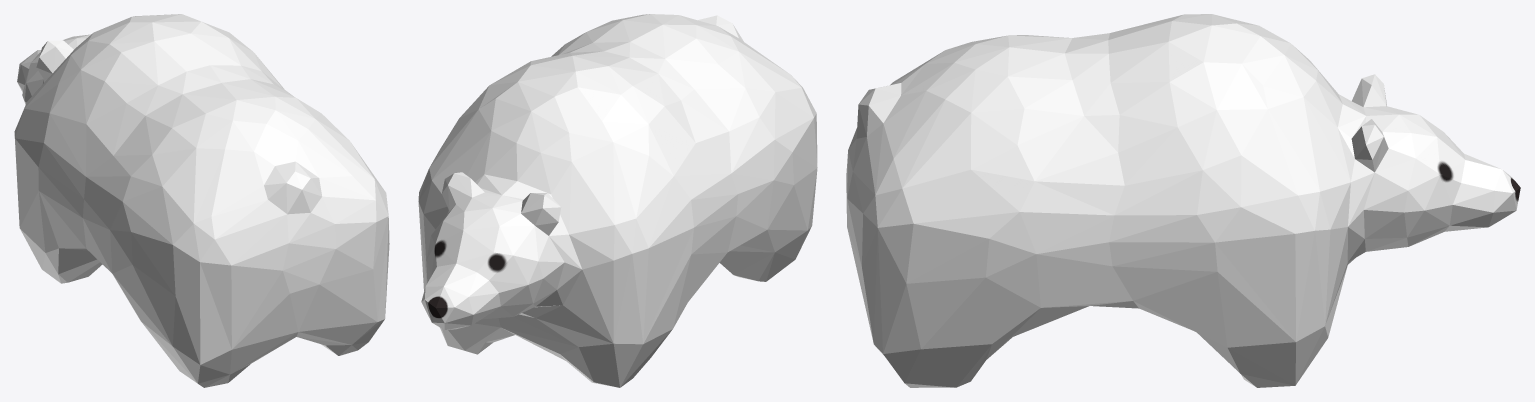
Rendered from animal_bear_blob.obj.
The picture shows the model from 3 angles, left to right: view 1: azimuth 30°, elevation 25°; view 2: azimuth 150°, elevation 25°; view 3: azimuth 270°, elevation 25°; orthographic projection. The views are drawn at different scales.
Visible parts, largest first — view 1: animal_bear_blob; view 2: animal_bear_blob; view 3: animal_bear_blob.
Part boxes in pixels (x1,y1,x2,y2): animal_bear_blob: (14, 14, 389, 387); animal_bear_blob: (418, 14, 817, 387); animal_bear_blob: (846, 14, 1520, 387).
Size of the model in its own units: 0.8662 by 0.8932 by 1.74.
